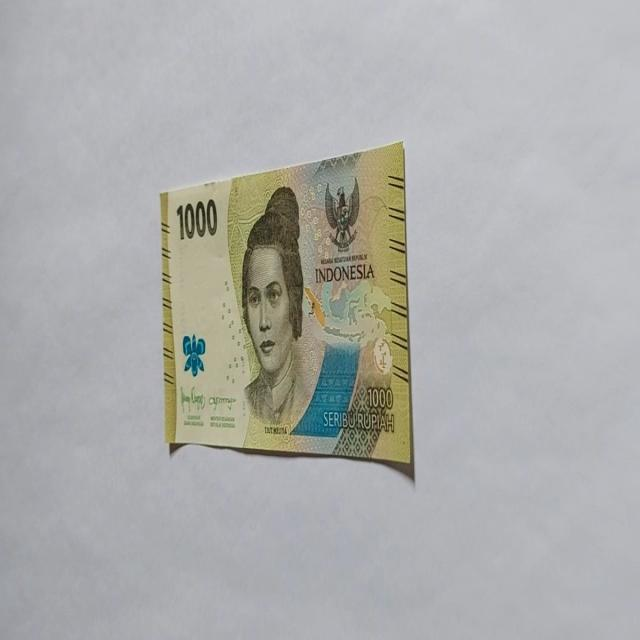seribu rupiah kertas: (159, 140, 414, 480)
